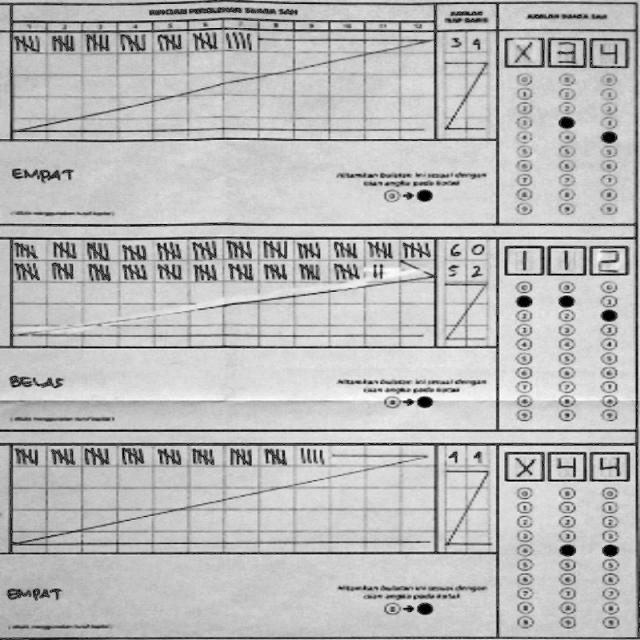Suara: (499, 240, 629, 281), (498, 30, 630, 70), (498, 446, 634, 484)
